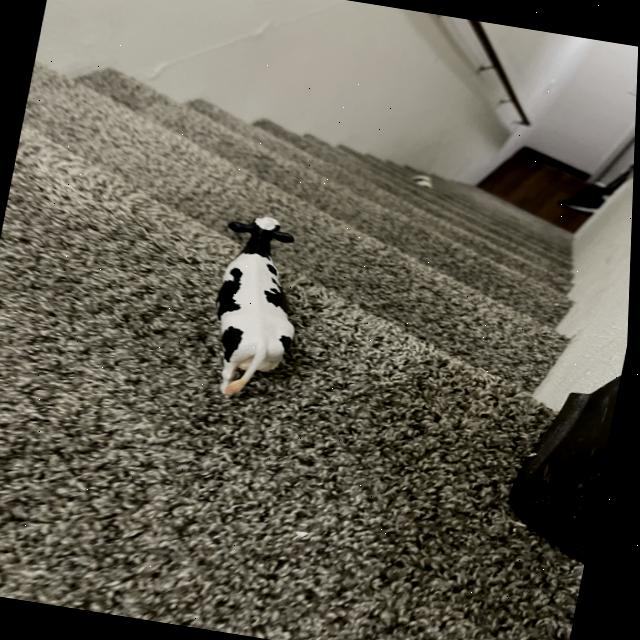cow: (218, 216, 297, 396)
